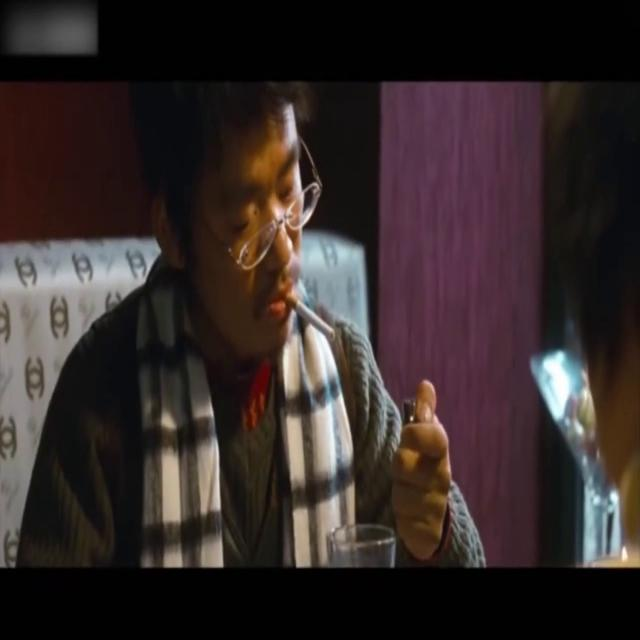smoking: (279, 292, 335, 336)
